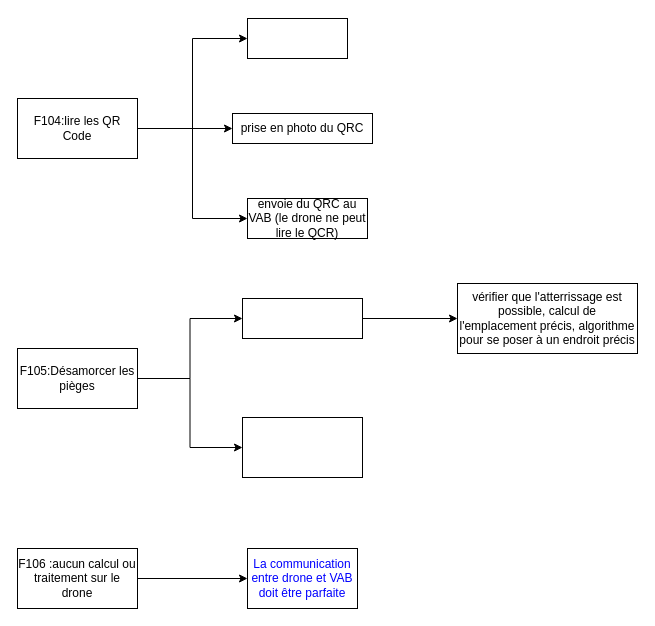
Some shapes in this 655 by 626 pixel diagram are drawn without their labels. The box of each missing label's shape, as (x1, y1, x2, y2) in pixels:
"fouiller le cube" pour trouver le QRC: (246, 18, 348, 58)
envoie de la position aux Husky pour qu'ils le désactivent: (242, 416, 362, 478)
Se poser sur le cube (ou autre action demandée): (242, 298, 362, 338)
